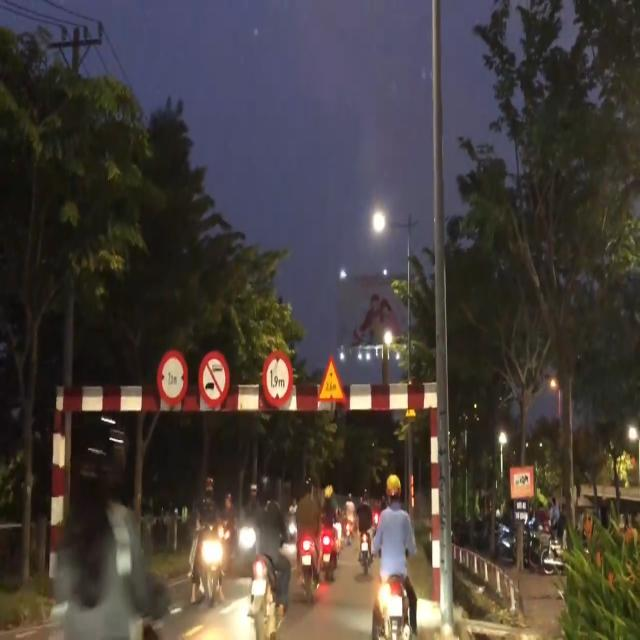Bien bao cam xe oto khach va xe oto tai: (198, 342, 235, 408)
Bien bao chieu cao tinh khong thuc te: (316, 355, 351, 408)
Bien bao han che chieu cao: (260, 343, 295, 416)
